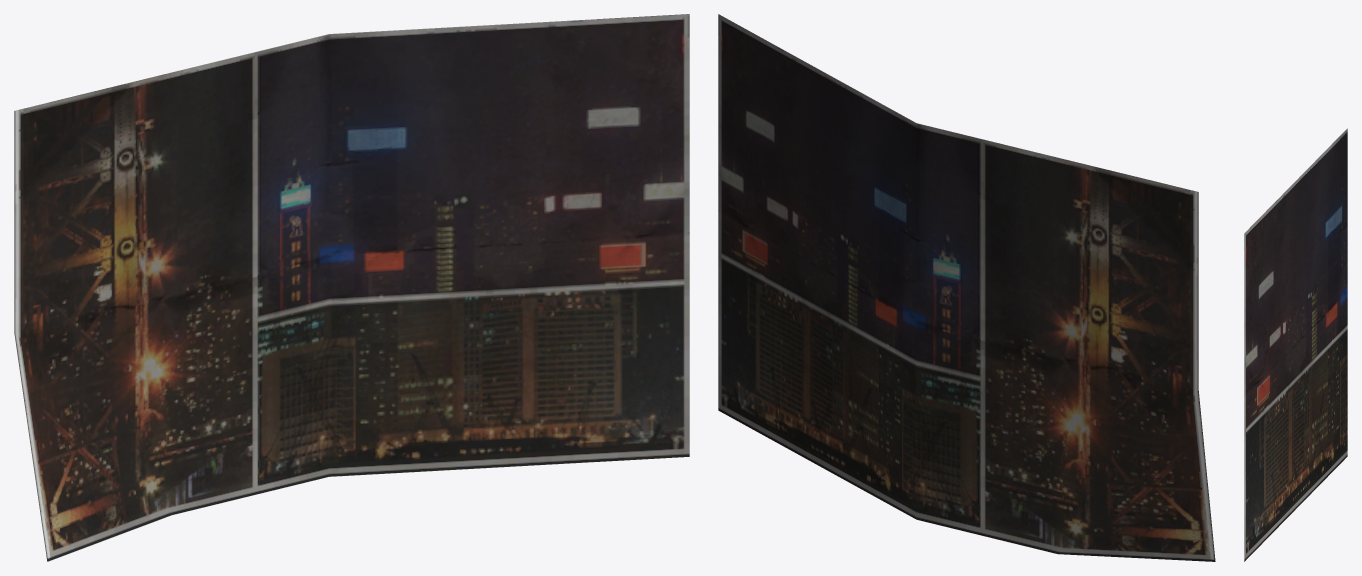
File: postcard_cabin_04.dae
The picture shows the model from 3 angles, left to right: view 1: azimuth 30°, elevation 25°; view 2: azimuth 150°, elevation 25°; view 3: azimuth 270°, elevation 25°; orthographic projection. The views are drawn at different scales.
Parts seen in each view (by area): view 1: Mesh; view 2: Mesh; view 3: Mesh.
Boxes of the visible parts, bbox=[...] form: Mesh: bbox=[14, 14, 689, 561]; Mesh: bbox=[718, 14, 1215, 561]; Mesh: bbox=[1244, 128, 1347, 561].
Size of the model in its own units: 0.1536 by 0.1073 by 0.0306.
